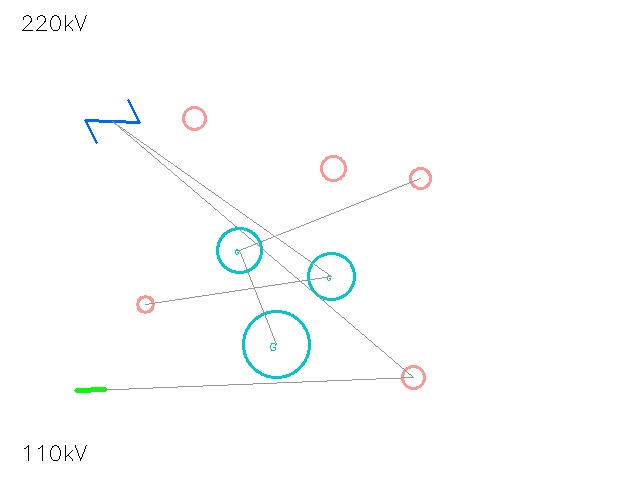busbar: (73, 372, 109, 408)
circuit_breaker: (86, 95, 138, 147)
feeder_terminal: (309, 144, 357, 192)
fuse: (172, 96, 216, 140)
generator: (243, 311, 309, 377), (308, 253, 354, 299), (217, 228, 261, 272)
reactor: (390, 354, 436, 400)
surge_arrester: (399, 157, 441, 199)
voltage_transformer: (129, 288, 161, 320)
